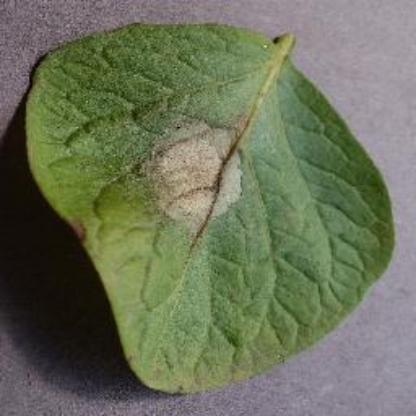Late-Blight: (22, 11, 398, 396)
